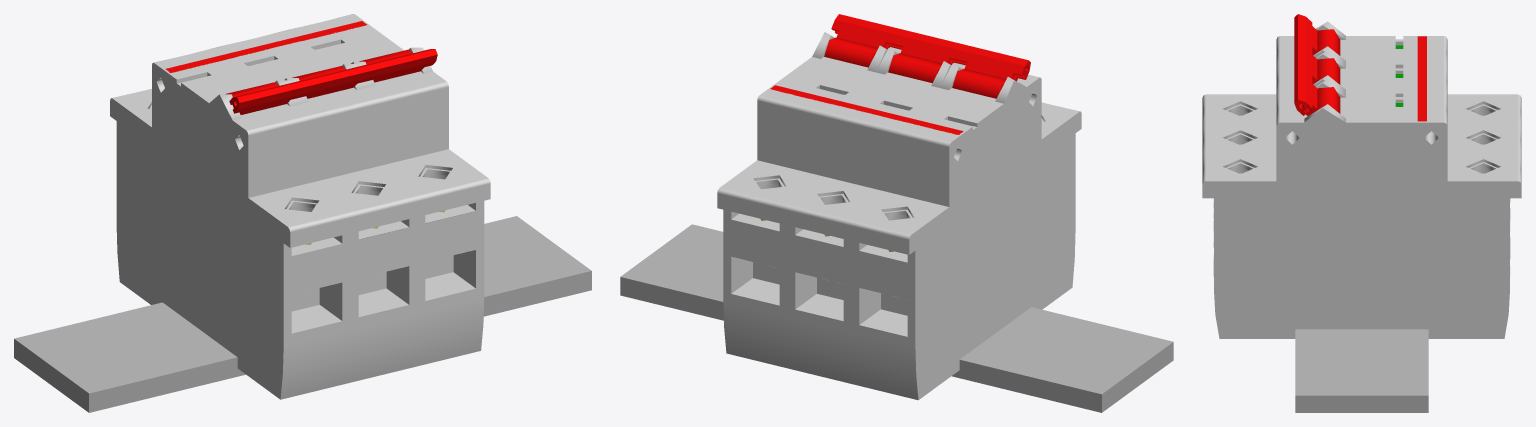
The model's file is auto.glb.
3 views of the same model, side by side, from view 1: azimuth 30°, elevation 25°; view 2: azimuth 150°, elevation 25°; view 3: azimuth 270°, elevation 25° (orthographic). The views are drawn at different scales.
Visible parts, largest first — view 1: Mesh_0, Mesh_2, Mesh_1, Mesh_12, Mesh_4, Mesh_3, Mesh_5, Mesh_13; view 2: Mesh_0, Mesh_2, Mesh_1, Mesh_12, Mesh_4, Mesh_3, Mesh_5, Mesh_13; view 3: Mesh_2, Mesh_12, Mesh_1, Mesh_0, Mesh_5, Mesh_3, Mesh_4, Mesh_13.
Boxes of the visible parts, left/top/right/bottom form: Mesh_0: left=110, top=46, right=356, bottom=399; Mesh_2: left=287, top=14, right=490, bottom=366; Mesh_1: left=220, top=30, right=423, bottom=383; Mesh_12: left=14, top=216, right=591, bottom=412; Mesh_4: left=225, top=81, right=304, bottom=114; Mesh_3: left=292, top=65, right=371, bottom=98; Mesh_5: left=359, top=49, right=437, bottom=82; Mesh_13: left=166, top=21, right=366, bottom=72; Mesh_0: left=845, top=63, right=1081, bottom=400; Mesh_2: left=717, top=32, right=901, bottom=368; Mesh_1: left=781, top=48, right=965, bottom=384; Mesh_12: left=620, top=224, right=1173, bottom=412; Mesh_4: left=952, top=45, right=1030, bottom=98; Mesh_3: left=888, top=29, right=965, bottom=83; Mesh_5: left=824, top=14, right=901, bottom=67; Mesh_13: left=770, top=85, right=963, bottom=134; Mesh_2: left=1202, top=79, right=1521, bottom=338; Mesh_12: left=1295, top=329, right=1428, bottom=412; Mesh_1: left=1202, top=50, right=1521, bottom=247; Mesh_0: left=1202, top=21, right=1521, bottom=218; Mesh_5: left=1294, top=71, right=1340, bottom=115; Mesh_3: left=1294, top=42, right=1340, bottom=84; Mesh_4: left=1294, top=14, right=1340, bottom=55; Mesh_13: left=1417, top=36, right=1426, bottom=121.
Bounding box in the file's own units: 0.1354 × 0.0715 × 0.084.
